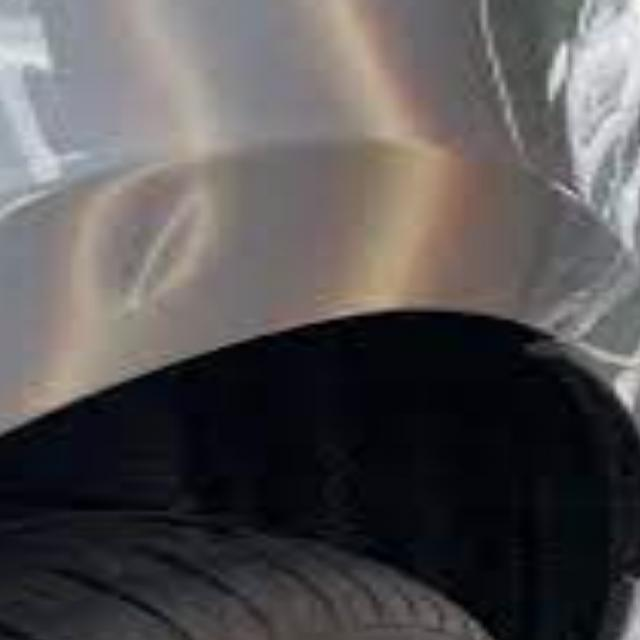dents: (62, 164, 290, 315)
